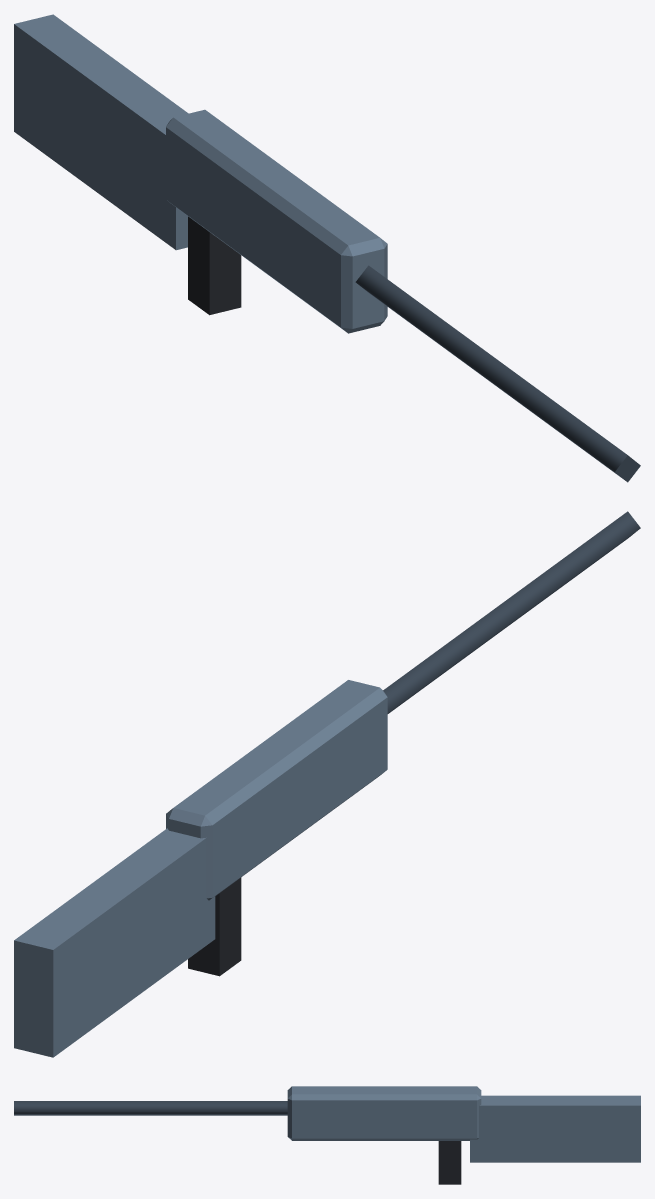
3 renders of one model, top to bottom at view 1: azimuth 30°, elevation 25°; view 2: azimuth 150°, elevation 25°; view 3: azimuth 270°, elevation 25°, orthographic. The views are drawn at different scales.
Parts seen in each view (by area): view 1: dweller_weapon_rifle; view 2: dweller_weapon_rifle; view 3: dweller_weapon_rifle.
Part boxes in pixels (x1,y1,x2,y2): dweller_weapon_rifle: (14, 14, 640, 482); dweller_weapon_rifle: (14, 511, 640, 1057); dweller_weapon_rifle: (14, 1086, 640, 1184).
Bounding box in the file's own units: 0.05 × 0.175 × 1.1.
